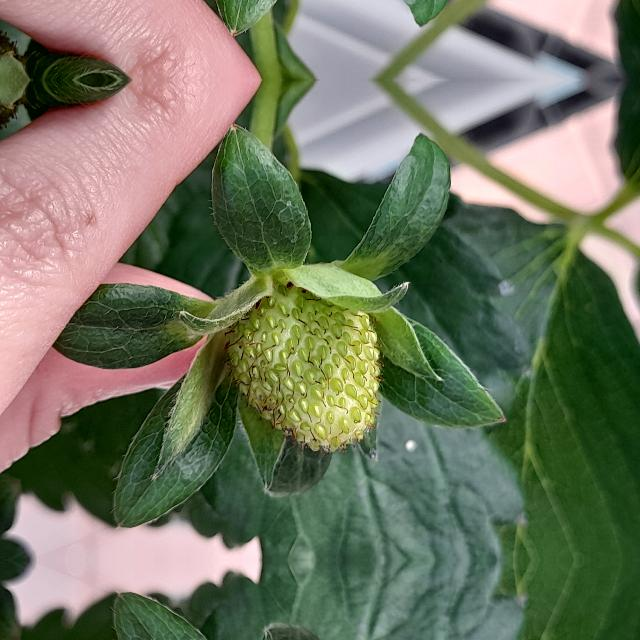Health_25: (222, 276, 384, 454)
